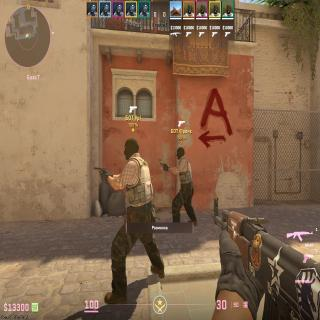T-Body: (117, 138, 155, 277), (174, 147, 194, 224)
T-Head: (124, 138, 140, 159), (176, 146, 185, 160)
